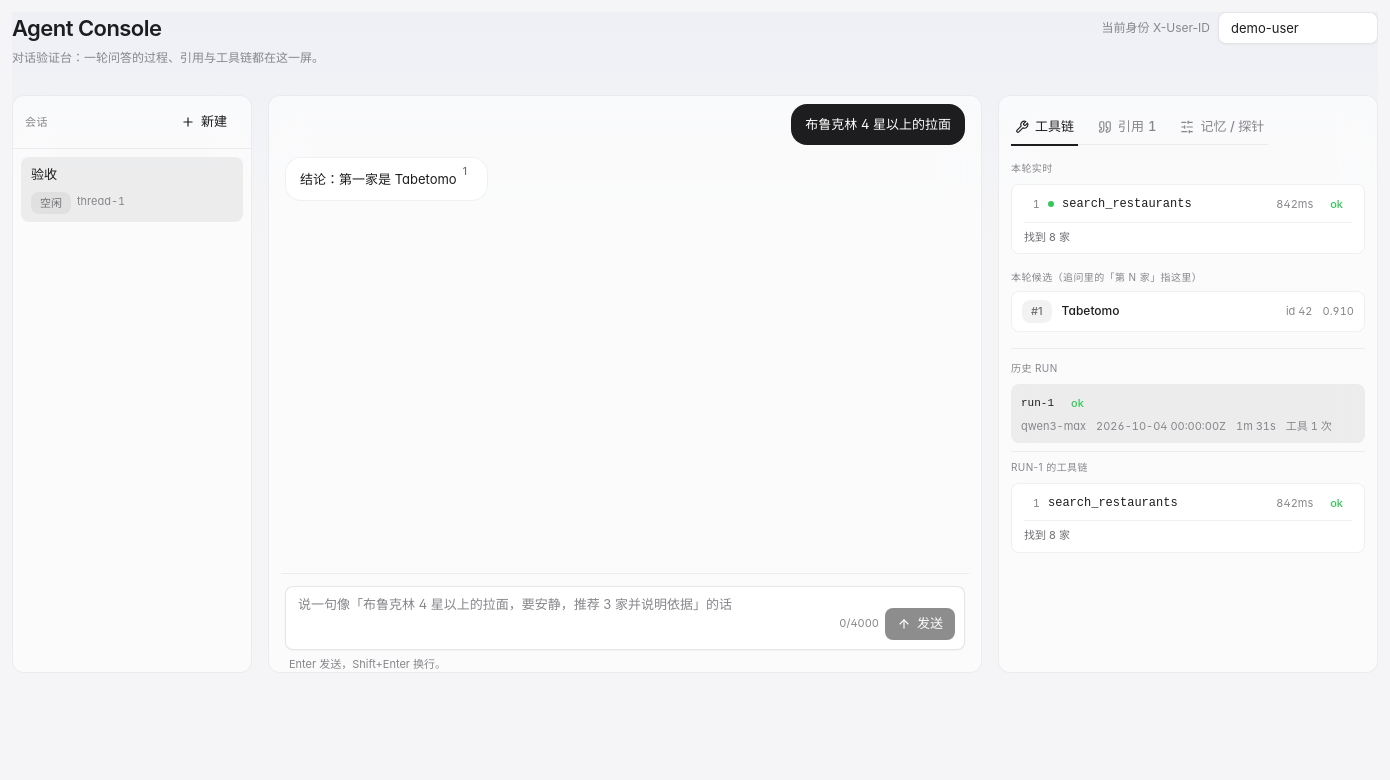
a new conversation joins the sidebar and becomes the open one
The image size is (1390, 780).
Expected: the text "验收" is shown, [31,165,57,184]
Click the button "新建" at (204, 122), box [169,106,239,138]
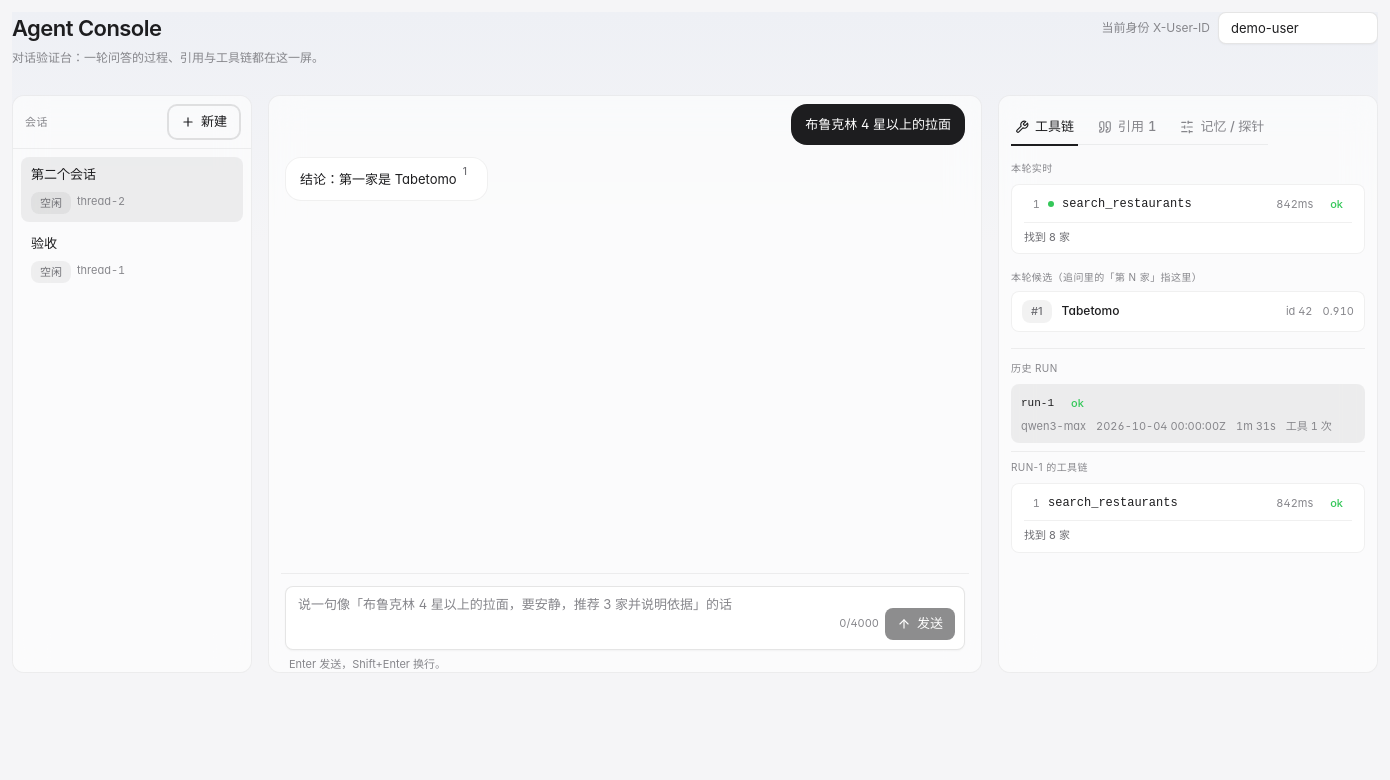
Now the text "第二个会话" is shown, box [31,165,96,184]
